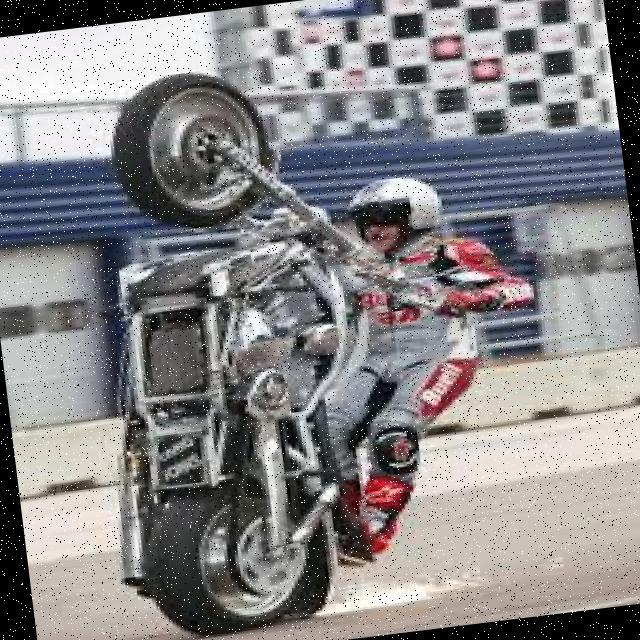Wheeling: (110, 50, 480, 616)
